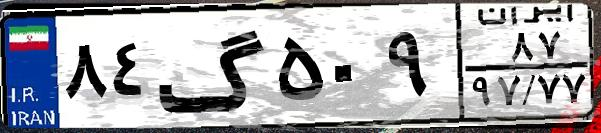0: (330, 28, 385, 110)
4: (110, 28, 156, 98)
5: (270, 28, 330, 110)
7: (560, 70, 590, 125), (537, 27, 568, 80), (495, 70, 520, 125), (535, 70, 560, 125)
8: (57, 26, 110, 100), (508, 27, 537, 80)
9: (385, 28, 445, 110), (470, 70, 495, 125)
گ: (156, 12, 270, 120)
